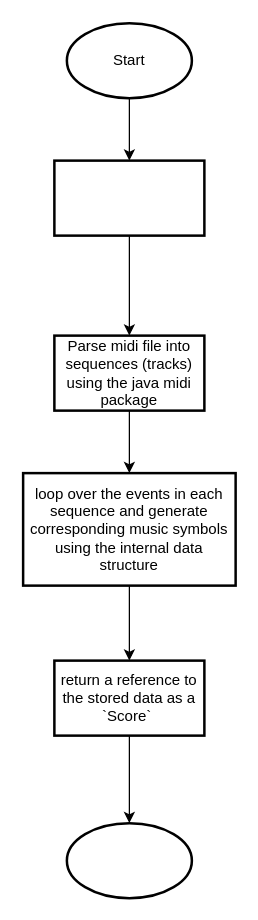
This 258x920 diagram has some shape labels left out. Here are the shapes that lost their labels. From the top down, the centre of each, then its label:
the point at 128,197: Reference to midi file is passed to and stored this class
the point at 128,860: End
